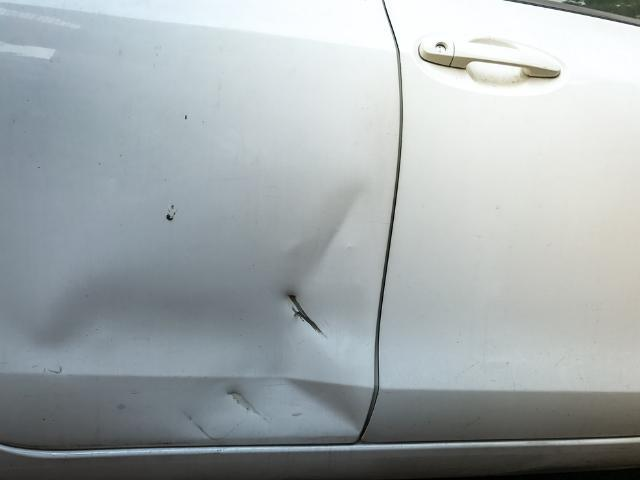Door: (150, 145, 373, 462)
